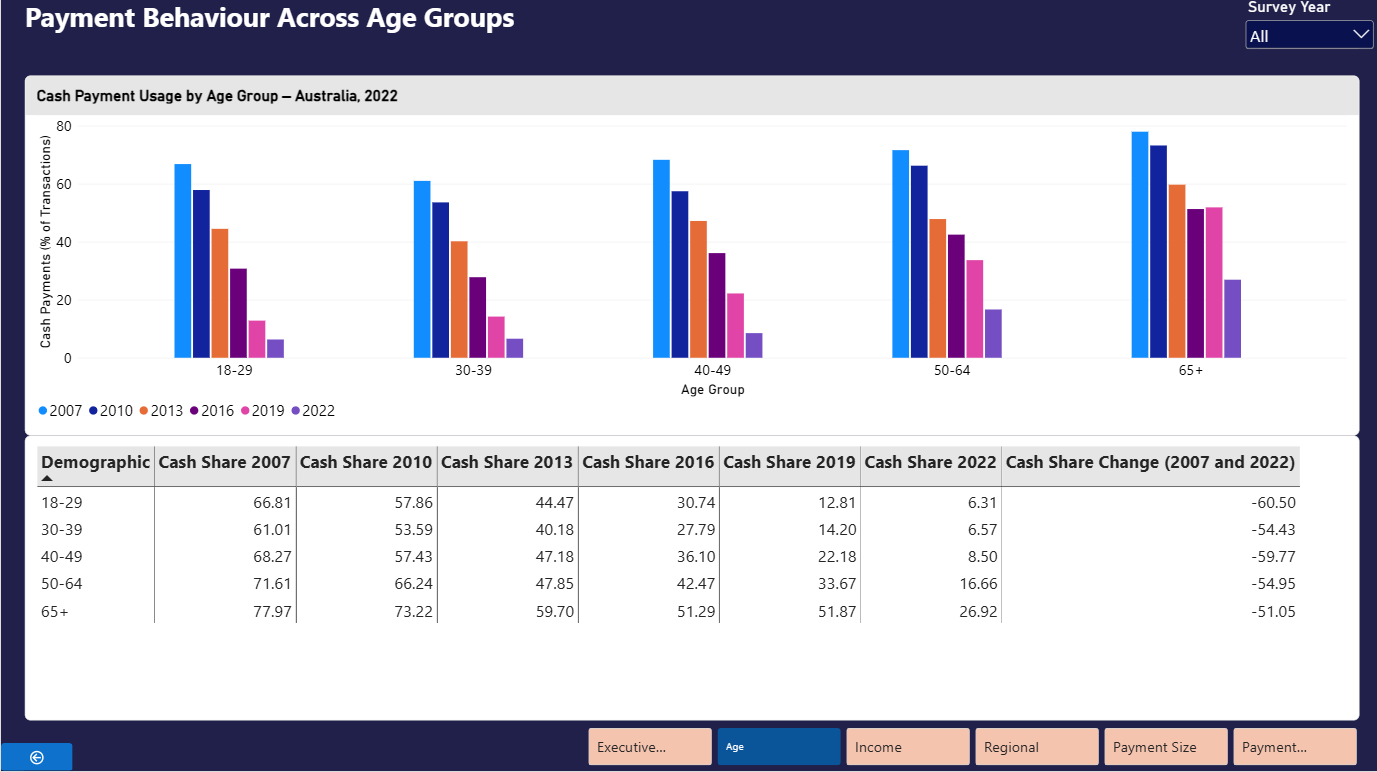

Layout of this report page (visuals, bound fields, positions):
{"tool":"powerbi","page":{"name":"Age","canvas":[1920,1080],"ordinal":1},"visuals":[{"type":"clusteredColumnChart","title":"Cash Payment Usage by Age Group – Australia, 2022","fields":{"Category":["Age.Demographic"],"Series":["Age.Survey Year"],"Y":["Avg(Age.Payment Share)"]},"box":[33.1,108.1,949.8,480],"z":1000},{"type":"tableEx","fields":{"Values":["Age.Demographic","Age.Cash Share 2007","Age.Cash Share 2010","Age.Cash Share 2013","Age.Cash Share 2016","Age.Cash Share 2019","Age.Cash Share 2022","Age.Cash Share Change (pp)"]},"box":[33.1,610.5,1862.8,397.7],"z":2000},{"type":"actionButton","box":[0,1040.2,100,40],"z":3000},{"type":"textbox","box":[33.6,0,1046.1,108],"z":5001},{"type":"pageNavigator","box":[819.9,1018.4,1076.7,52.5],"z":5002},{"type":"slicer","fields":{"Values":["Age.Survey Year"]},"box":[1079.7,108.1,164,308.7],"z":5004}]}

Visuals, with their boxes in screenshot pixels (x1, y1, x2, y2), scaled from the page's 1920x1080 canvas onto the 1377x772 screenshot:
"Cash Payment Usage by Age Group – Australia, 2022" clusteredColumnChart: <box>24,77,705,420</box>
tableEx - Age.Demographic x Age.Cash Share 2007: <box>24,436,1360,721</box>
actionButton: <box>0,744,72,771</box>
textbox: <box>24,0,774,77</box>
pageNavigator: <box>588,728,1360,765</box>
slicer - Age.Survey Year: <box>774,77,892,298</box>
